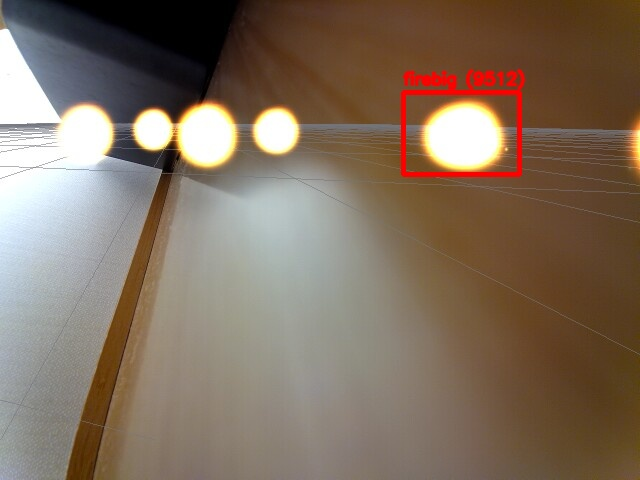firebig: (403, 92, 519, 174)
